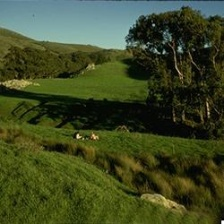neutral: (2, 1, 224, 223)
